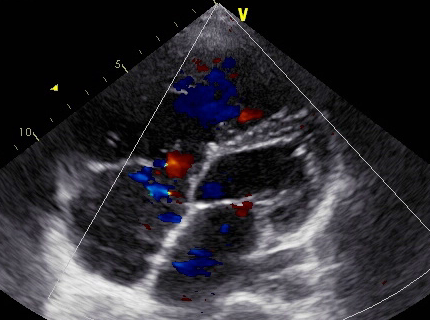TR: (136, 153, 194, 204)
